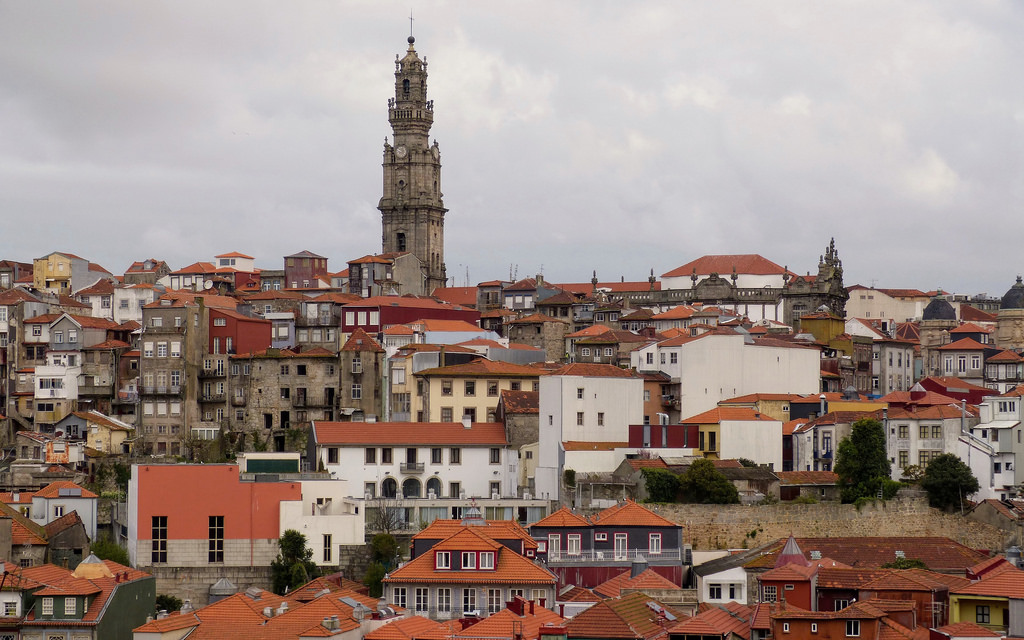clerigos: (375, 8, 451, 288)
